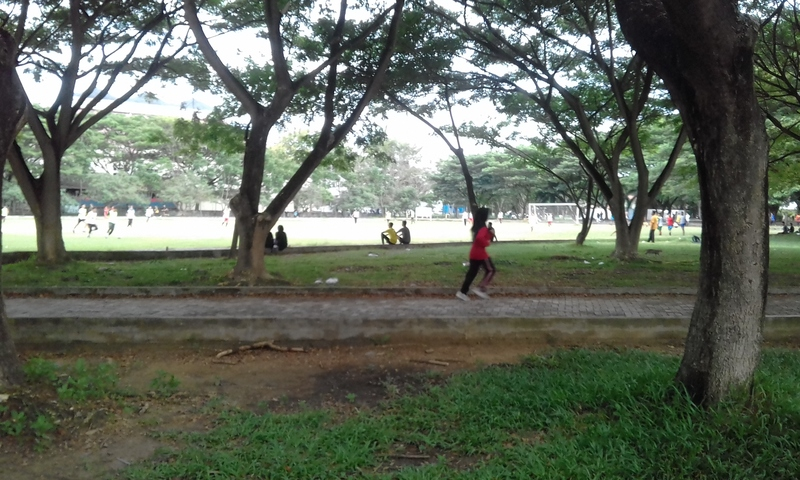person: (453, 204, 502, 305)
